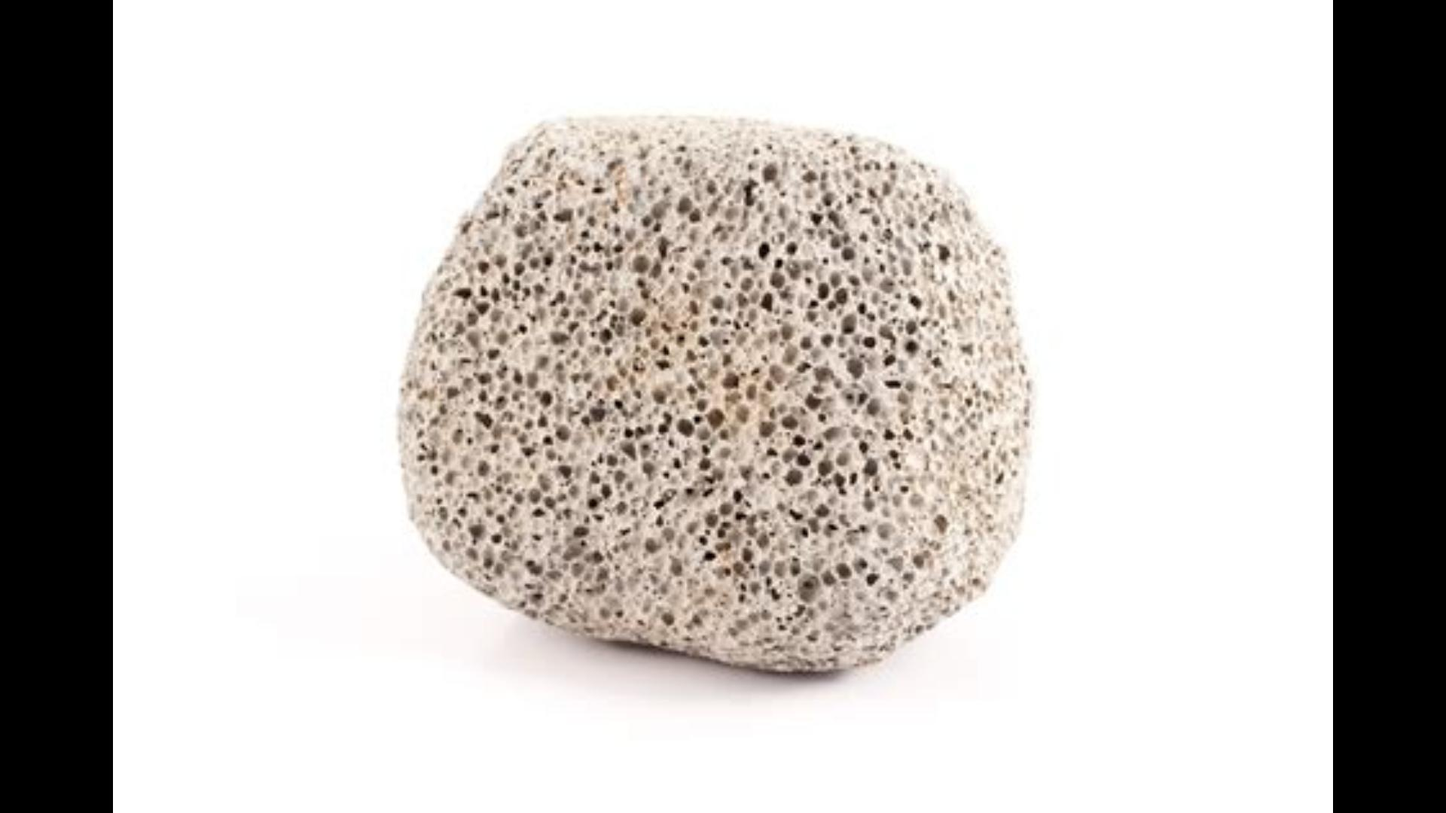rock: (404, 123, 1024, 666)
